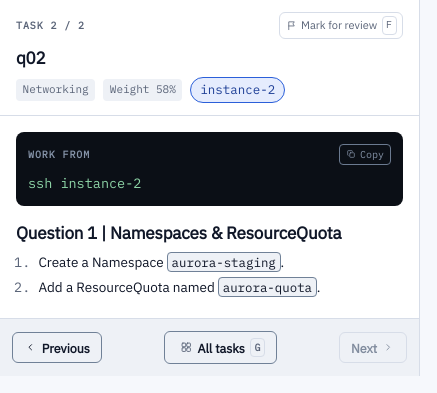
Test: axe: no WCAG violations › exam question panel with the jump grid open
The image size is (437, 393).
Click the button named "show all questions" at (220, 348), box [164,331,277,364]
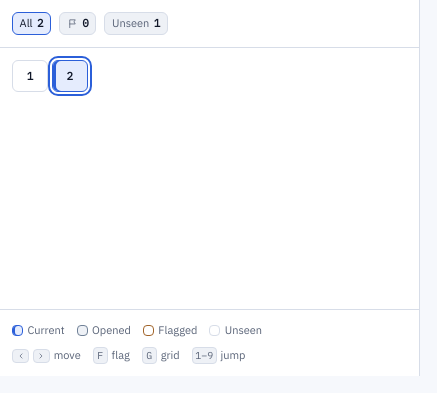
Now the element that starts with "All" is shown
